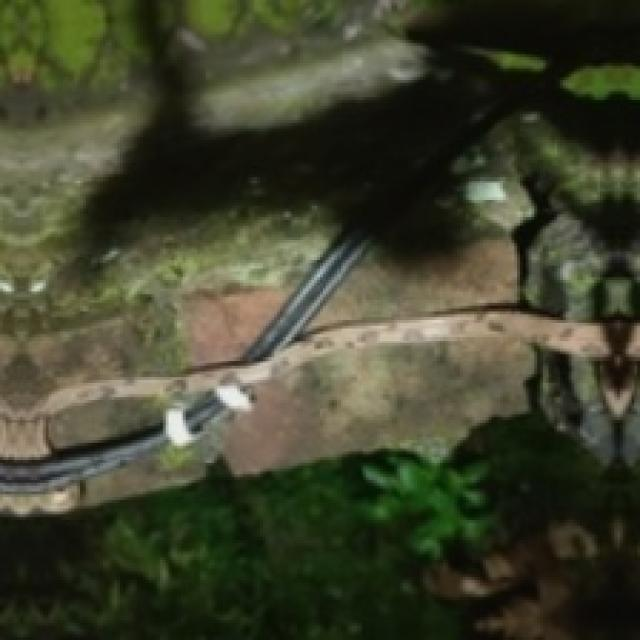dog-toothed cat snake: (0, 309, 610, 419)
